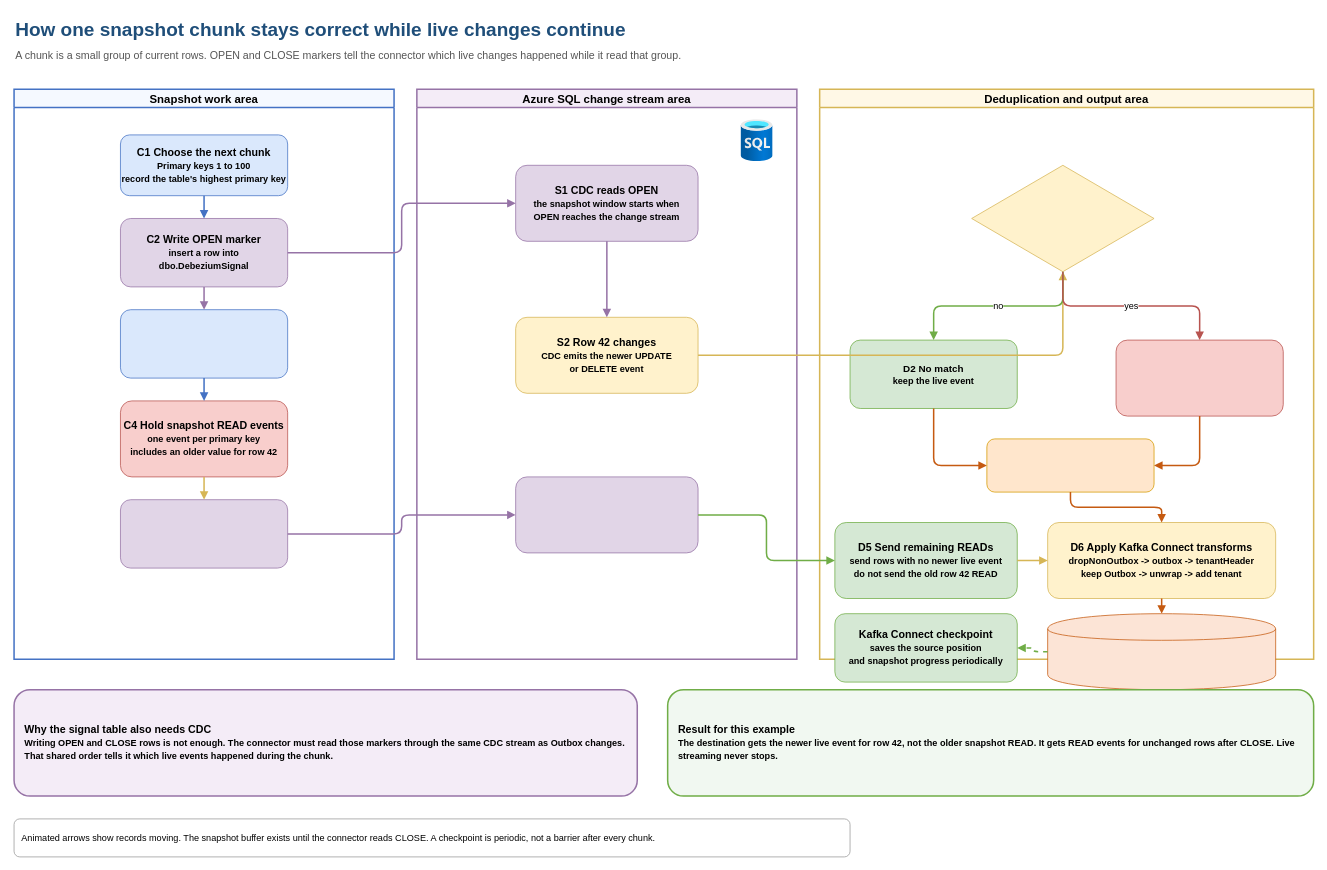
Image size: 1327x870. Some labels were removed from this diagram. The centre of each missing label's shape, as x and y in pixels:
Azure SQL: the point at 756,140
C3 Read current Outbox rows primary keys 1 to 100: the point at 204,343
C5 Write CLOSE marker insert the second row into dbo.DebeziumSignal: the point at 204,533
D1 Does this live event match a buffered READ?: the point at 1062,218
D3 Match: row 42 remove the older READ keep the newer live event: the point at 1199,377
D4 Send the live event: the point at 1070,465
D7 workflow-transitions new live event for row 42 READ events for unchanged rows: the point at 1161,651
S3 CDC reads CLOSE all live changes inside this snapshot window are now known: the point at 606,514
